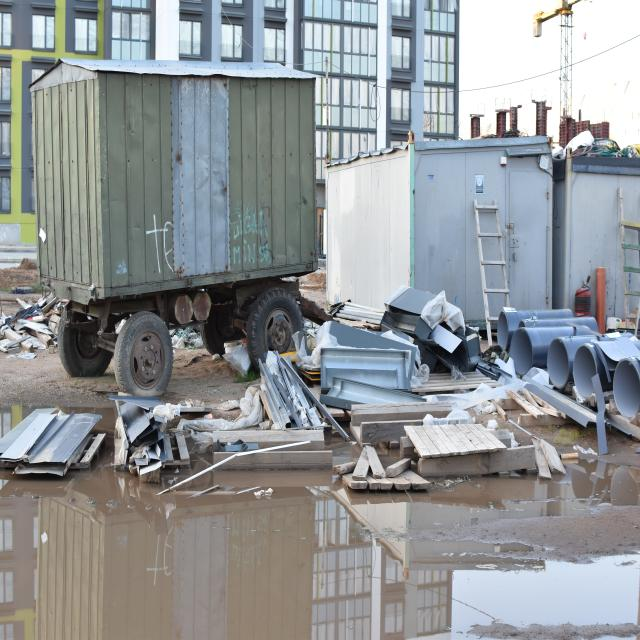entulho: (320, 324, 426, 409), (0, 399, 108, 479), (256, 355, 348, 437), (404, 422, 542, 470), (114, 398, 193, 480), (458, 419, 566, 477), (342, 402, 471, 448), (378, 288, 444, 372), (572, 338, 640, 418), (517, 377, 607, 432), (166, 390, 270, 435), (473, 200, 508, 328), (344, 449, 432, 495), (562, 396, 640, 444), (210, 446, 338, 474), (510, 326, 577, 375), (547, 334, 604, 389), (498, 307, 573, 348), (617, 190, 640, 322), (4, 317, 56, 360), (332, 299, 386, 333), (504, 388, 561, 420), (423, 423, 474, 456), (429, 372, 509, 392), (2, 295, 52, 327), (162, 429, 190, 471), (521, 318, 593, 332), (517, 308, 576, 320), (597, 268, 607, 334)
